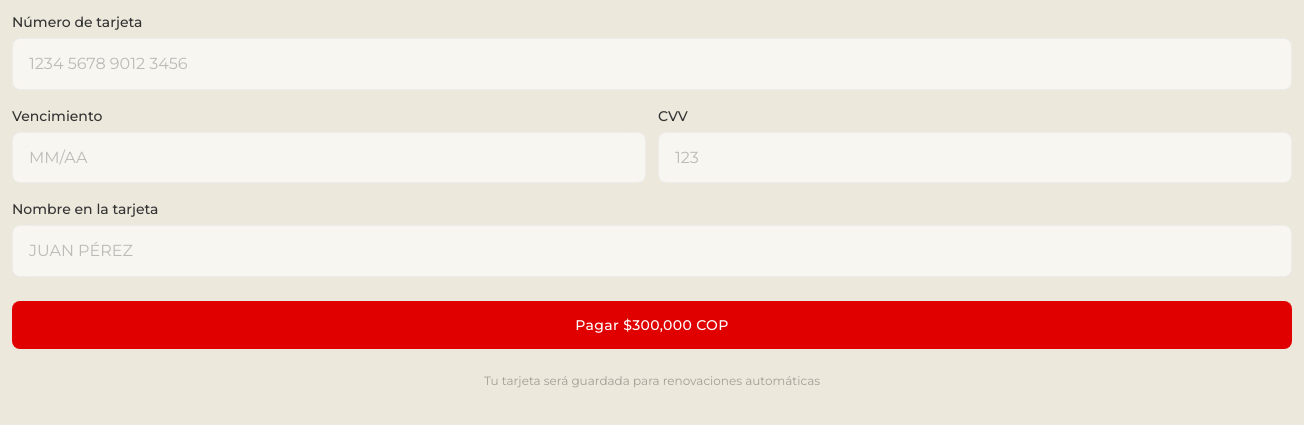
Test case: CardPaymentForm › shows expiry error only after field is touched and submit attempted
Expected: the text "Fecha inválida" is not shown
Click the field labelled "Vencimiento" at (329, 157), box [12,132,646,183]
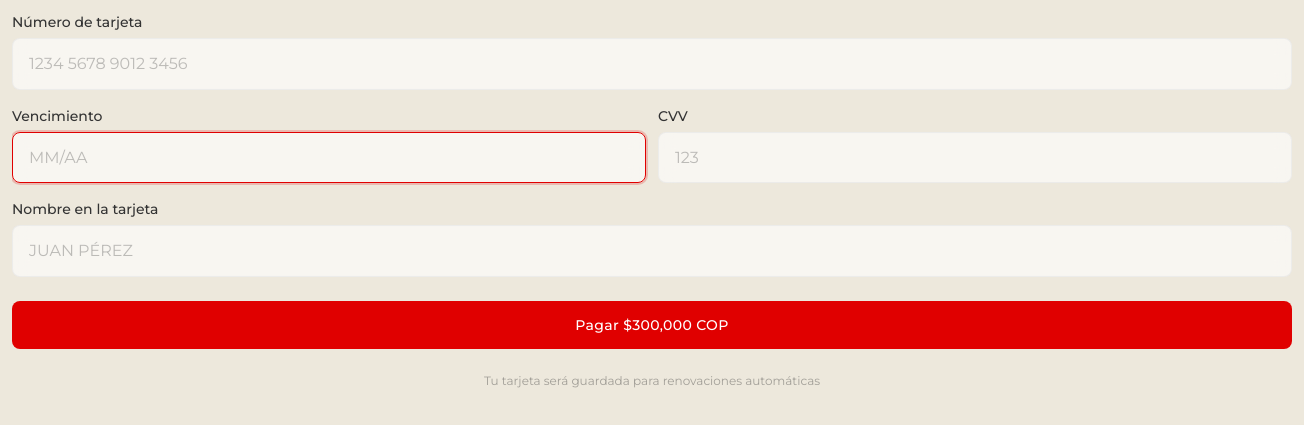
Press Tab
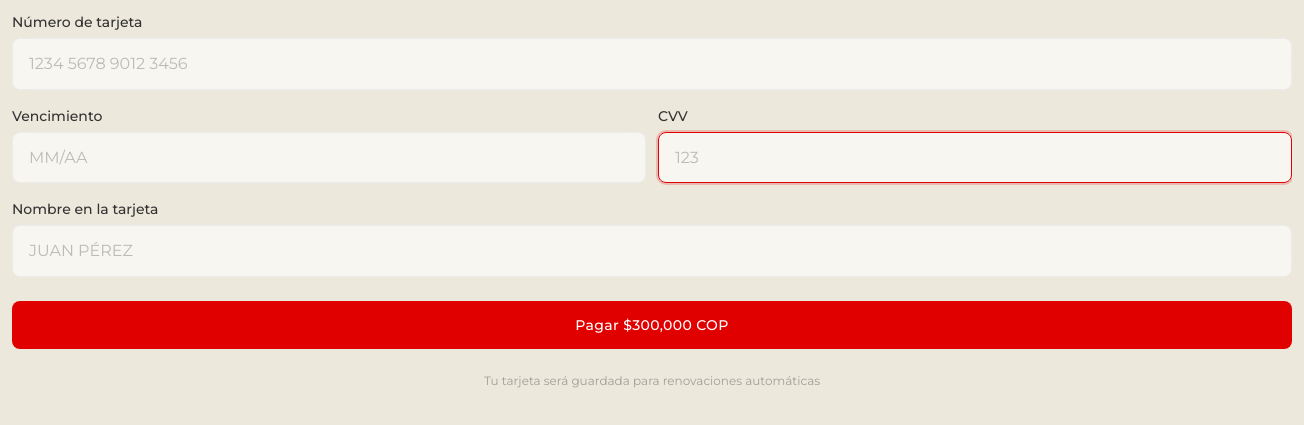
Click the button "Pagar $300,000 COP" at (652, 325), box [12,301,1292,349]
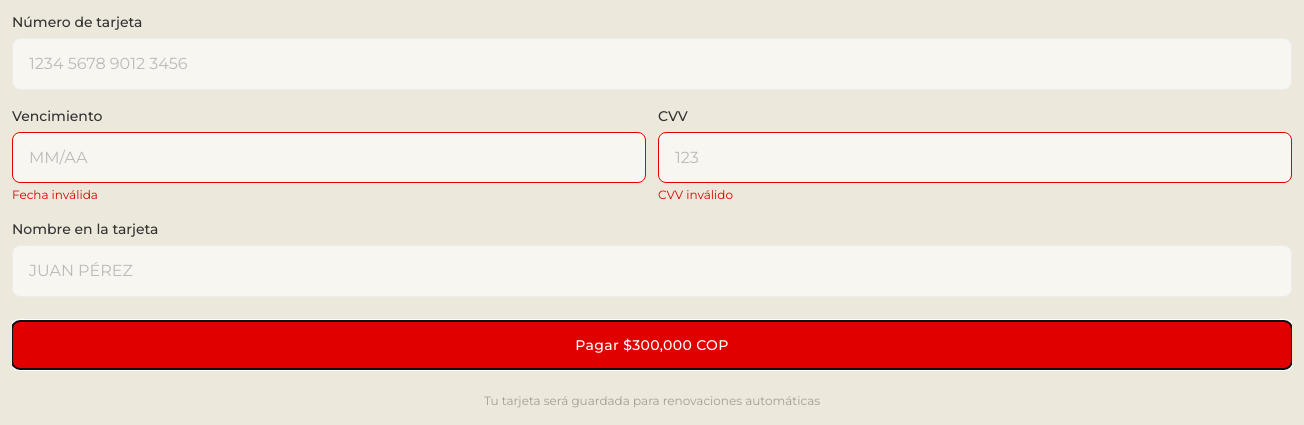
Now the text "Fecha inválida" is shown, box [12,187,98,202]
